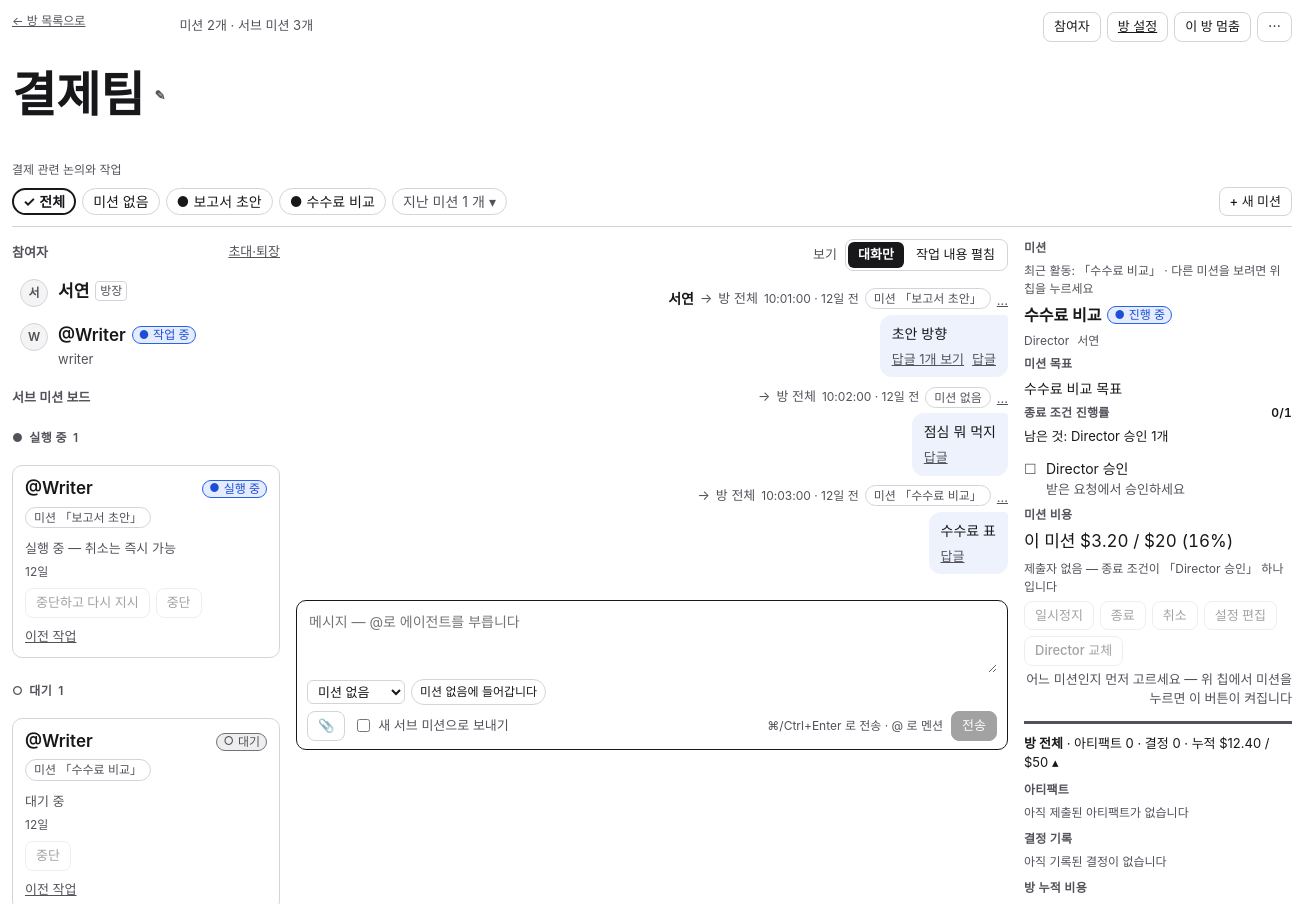
타임라인 항목 — 방 화면이 항목 렌더러(TimelineItemView)에 잇는 것 (T-RF2) › message.created 답글 — 펼친 스레드에 바로 붙고 뿌리의 답글 수가 오른다
expect the element with test id "room-title" is shown: met, box 12,65 -> 169,124
expect the 1st element with test id "message-card" is shown: met, box 668,288 -> 1008,377
Click the button with test id "thread-toggle" at (928, 359), box 892,350 -> 964,369
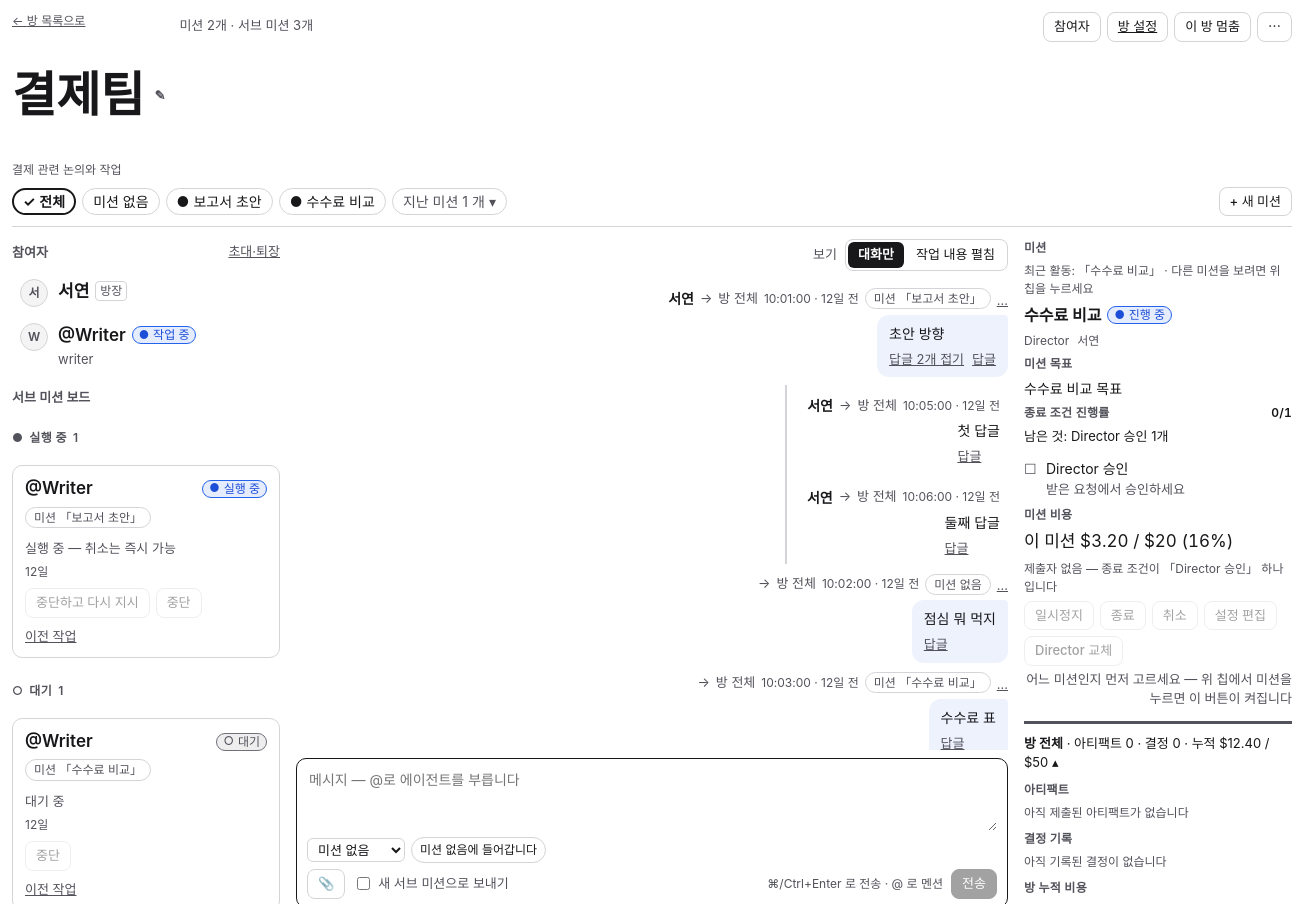
expect the element with test id "thread" shows "첫 답글": met, box 957,422 -> 1000,439
expect the element with test id "thread" shows "둘째 답글": met, box 944,514 -> 1000,531
expect the button with test id "thread-toggle" shows "2": met, box 889,350 -> 964,369
